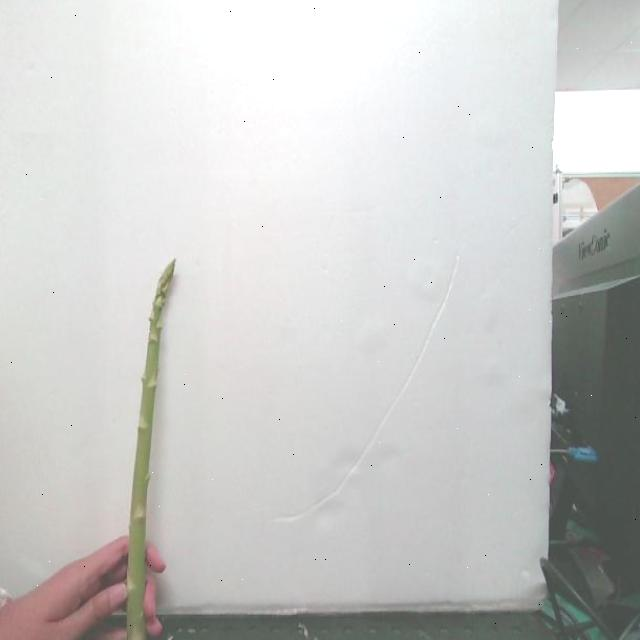aspargus: (125, 260, 175, 640)
